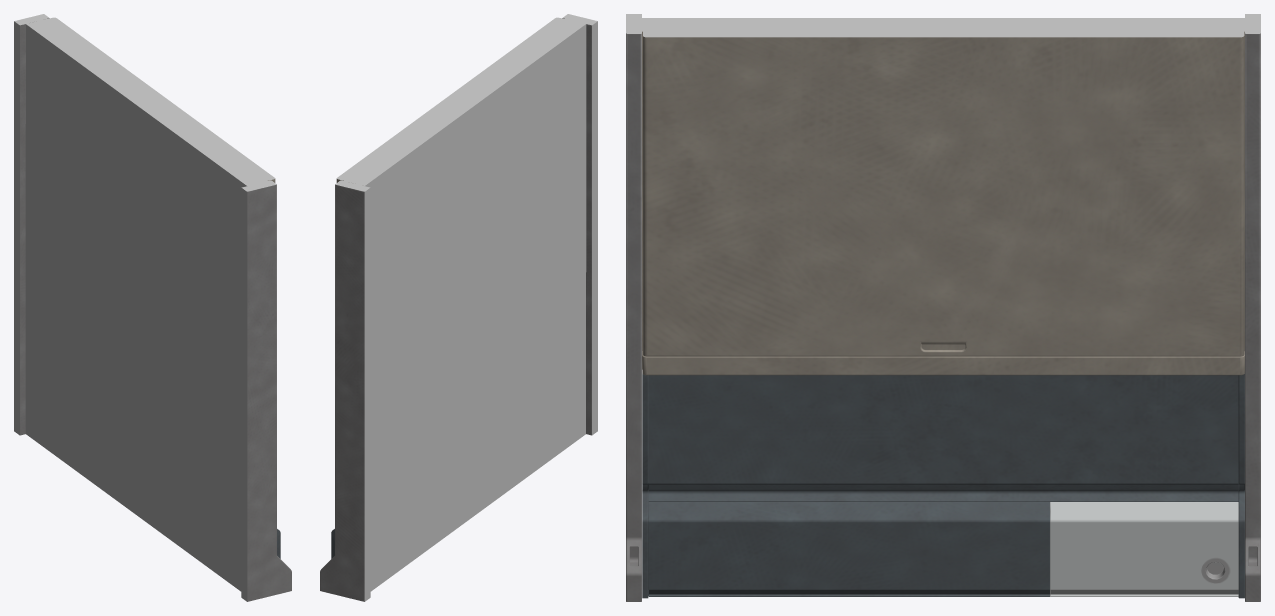
Rendered from SM_RoomStyle01_WallBig.fbx.
3 views of the same model, side by side, from view 1: azimuth 30°, elevation 25°; view 2: azimuth 150°, elevation 25°; view 3: azimuth 270°, elevation 25° (orthographic). The views are drawn at different scales.
Parts seen in each view (by area): view 1: SM_RoomStyle01_WallBig_LOD0; view 2: SM_RoomStyle01_WallBig_LOD0; view 3: SM_RoomStyle01_WallBig_LOD0.
Boxes of the visible parts, left/top/right/bottom form: SM_RoomStyle01_WallBig_LOD0: left=14, top=14, right=291, bottom=601; SM_RoomStyle01_WallBig_LOD0: left=320, top=14, right=597, bottom=601; SM_RoomStyle01_WallBig_LOD0: left=626, top=14, right=1260, bottom=601.
Size of the model in its own units: 33.4 by 300 by 291.
Materials: 2 (1 with a texture image).
